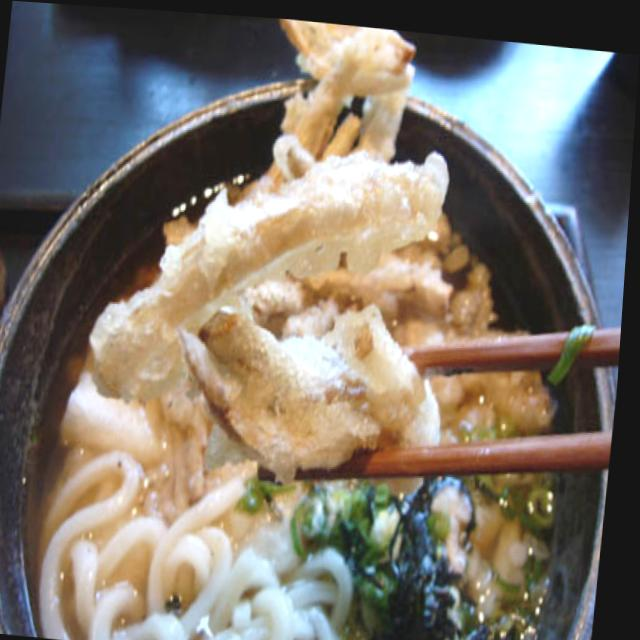面条主食: (5, 2, 614, 640)
